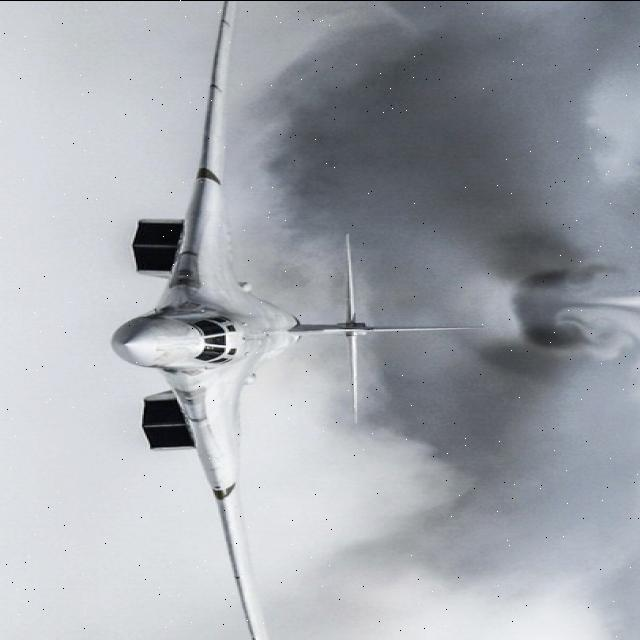Tu160: (0, 0, 511, 640)
